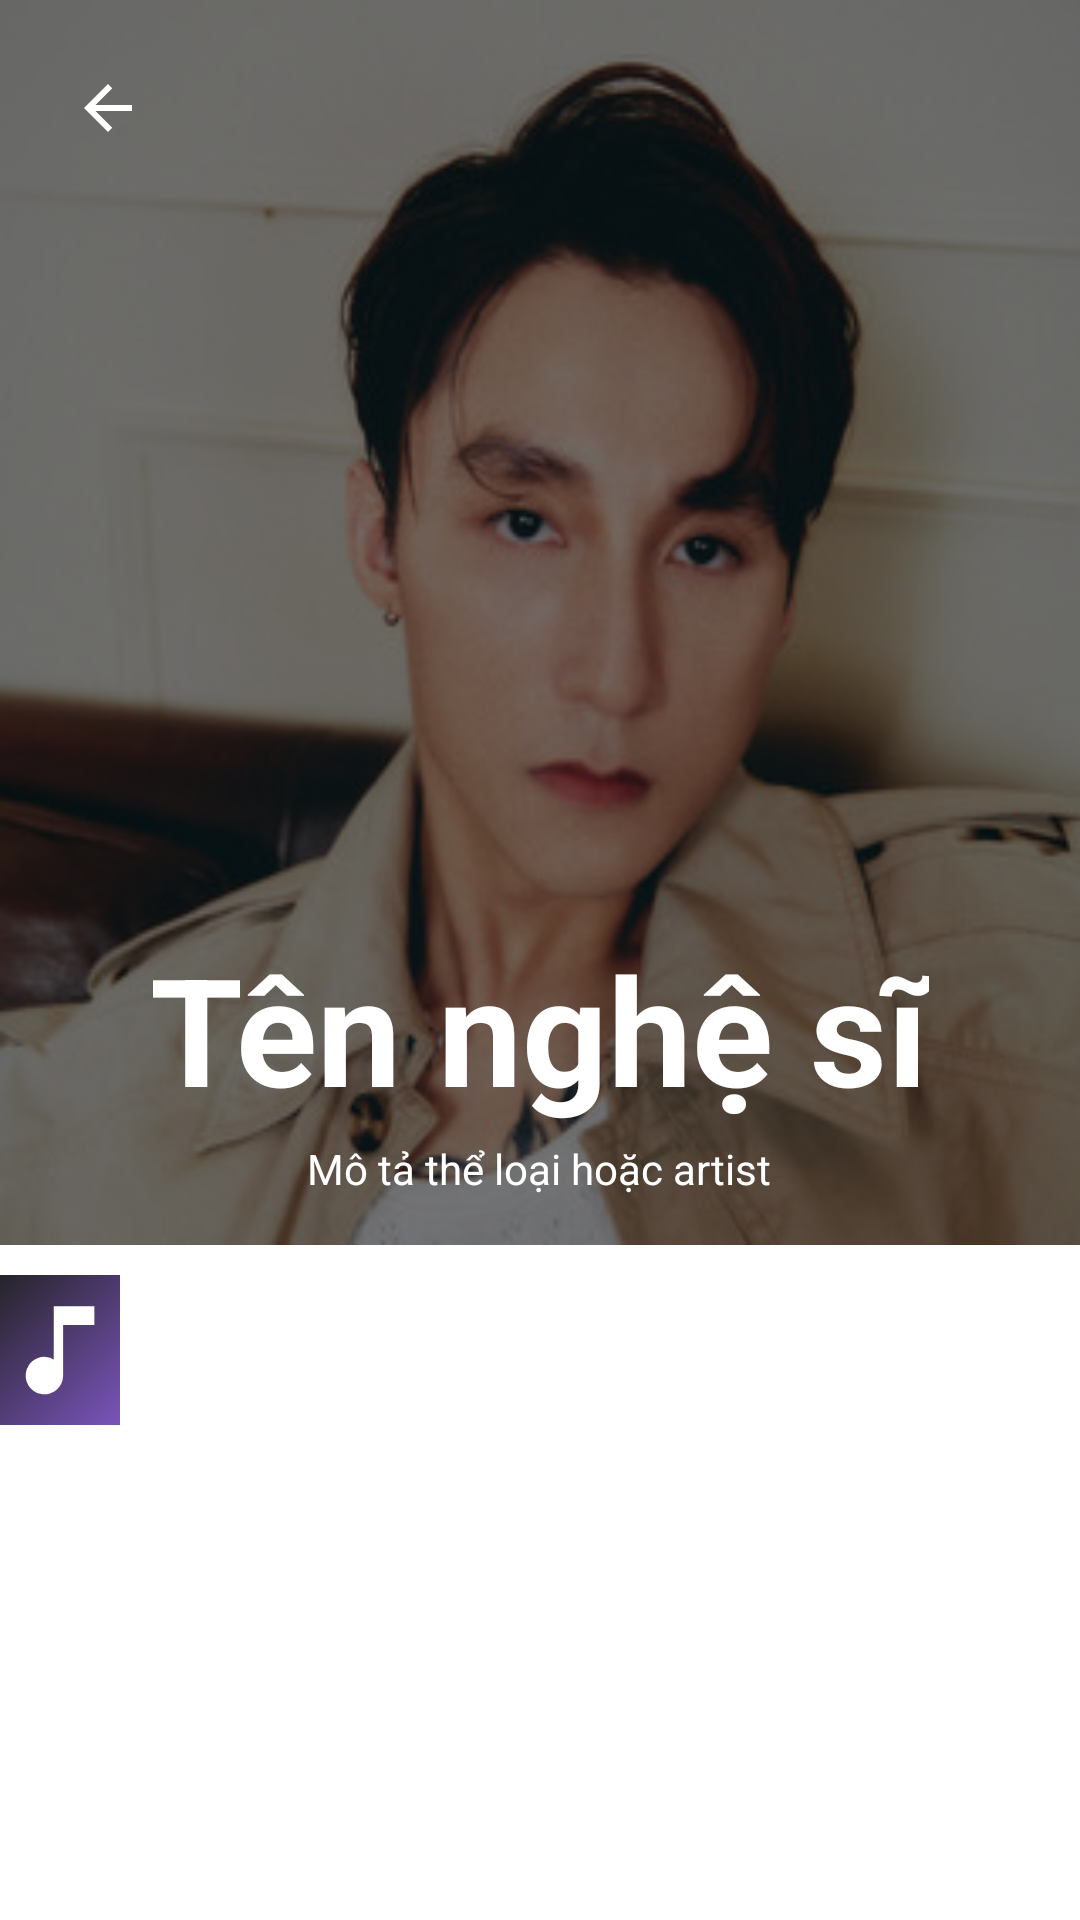

Named icons in this screenshot (1080×1920) and their bounding boxes, (x1, y1, x2, y2):
Back: (84, 84, 132, 132)
song: (0, 1275, 120, 1425)
